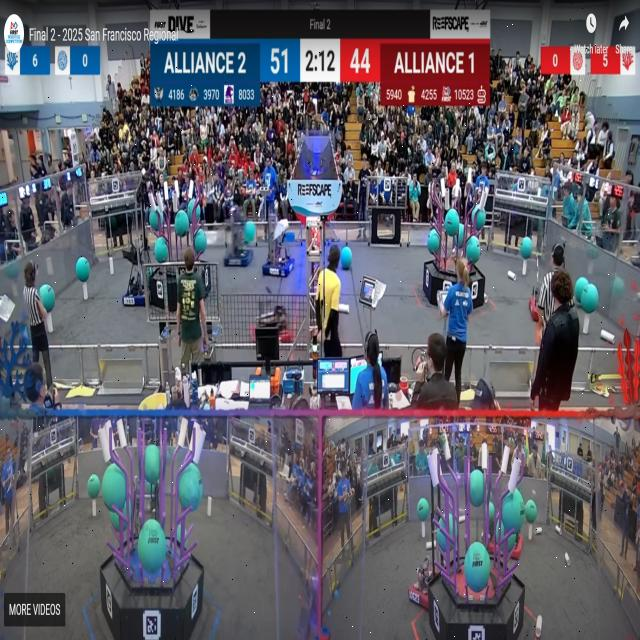Robot-YfA7: (223, 210, 258, 266), (122, 240, 148, 310), (265, 208, 290, 278), (408, 557, 436, 610), (530, 282, 545, 319)
